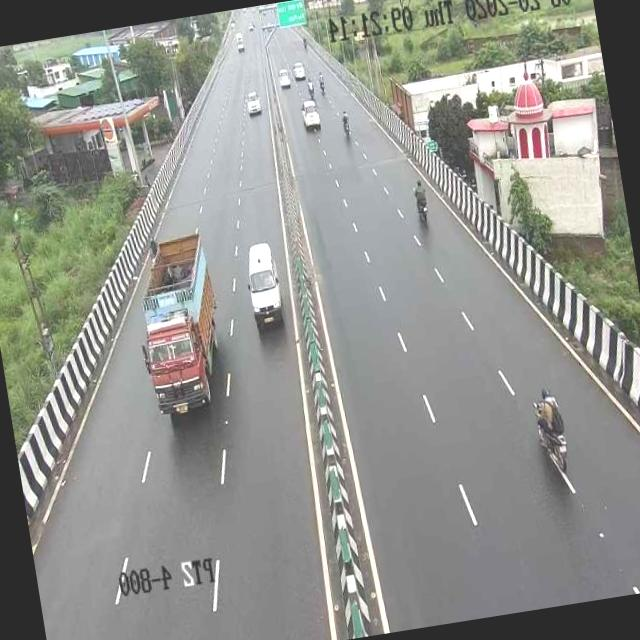car: (238, 232, 292, 338), (296, 94, 326, 134), (240, 88, 266, 119)
